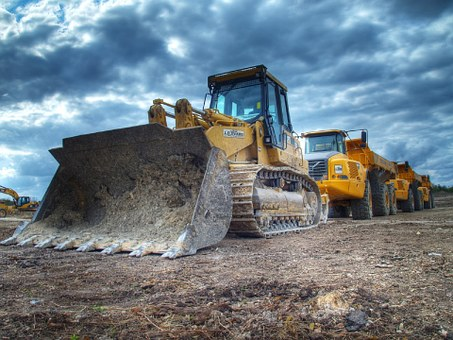excavator: (3, 62, 437, 259)
